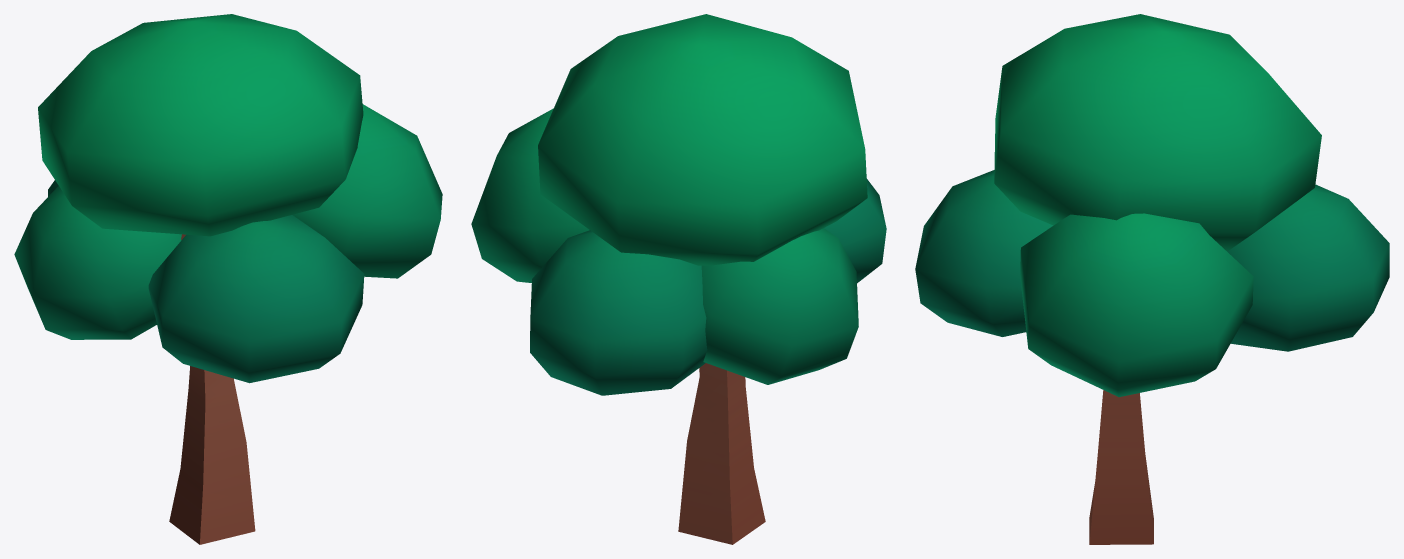
The model's file is tree_E.glb.
The picture shows the model from 3 angles, left to right: view 1: azimuth 30°, elevation 25°; view 2: azimuth 150°, elevation 25°; view 3: azimuth 270°, elevation 25°; orthographic projection. The views are drawn at different scales.
Parts seen in each view (by area): view 1: tree_E; view 2: tree_E; view 3: tree_E.
Boxes of the visible parts, <box> form: tree_E: <box>14,14,442,544</box>; tree_E: <box>471,14,886,544</box>; tree_E: <box>915,14,1389,544</box>.
Bounding box in the file's own units: 0.8839 × 1.07 × 0.9192.
Materials: 1 (1 with a texture image).
